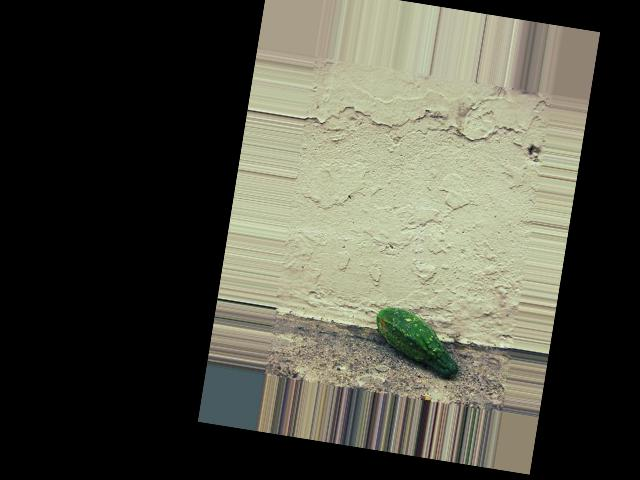cucumber: (368, 304, 464, 378)
